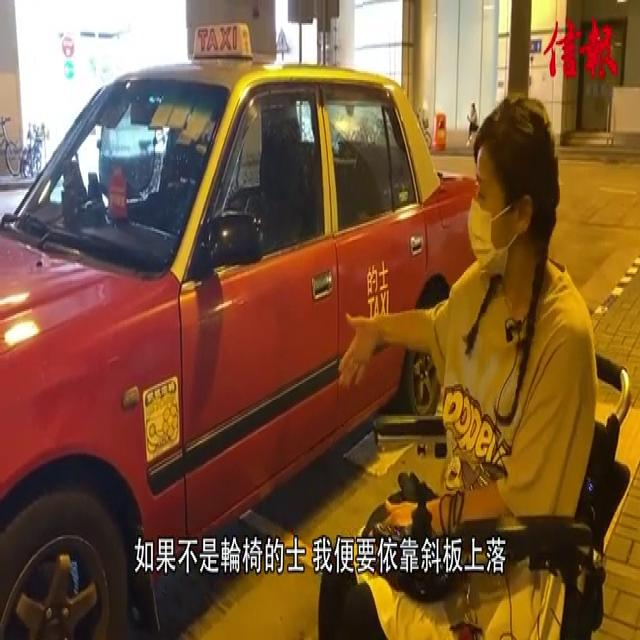wheelchairs: (373, 329, 633, 640)
